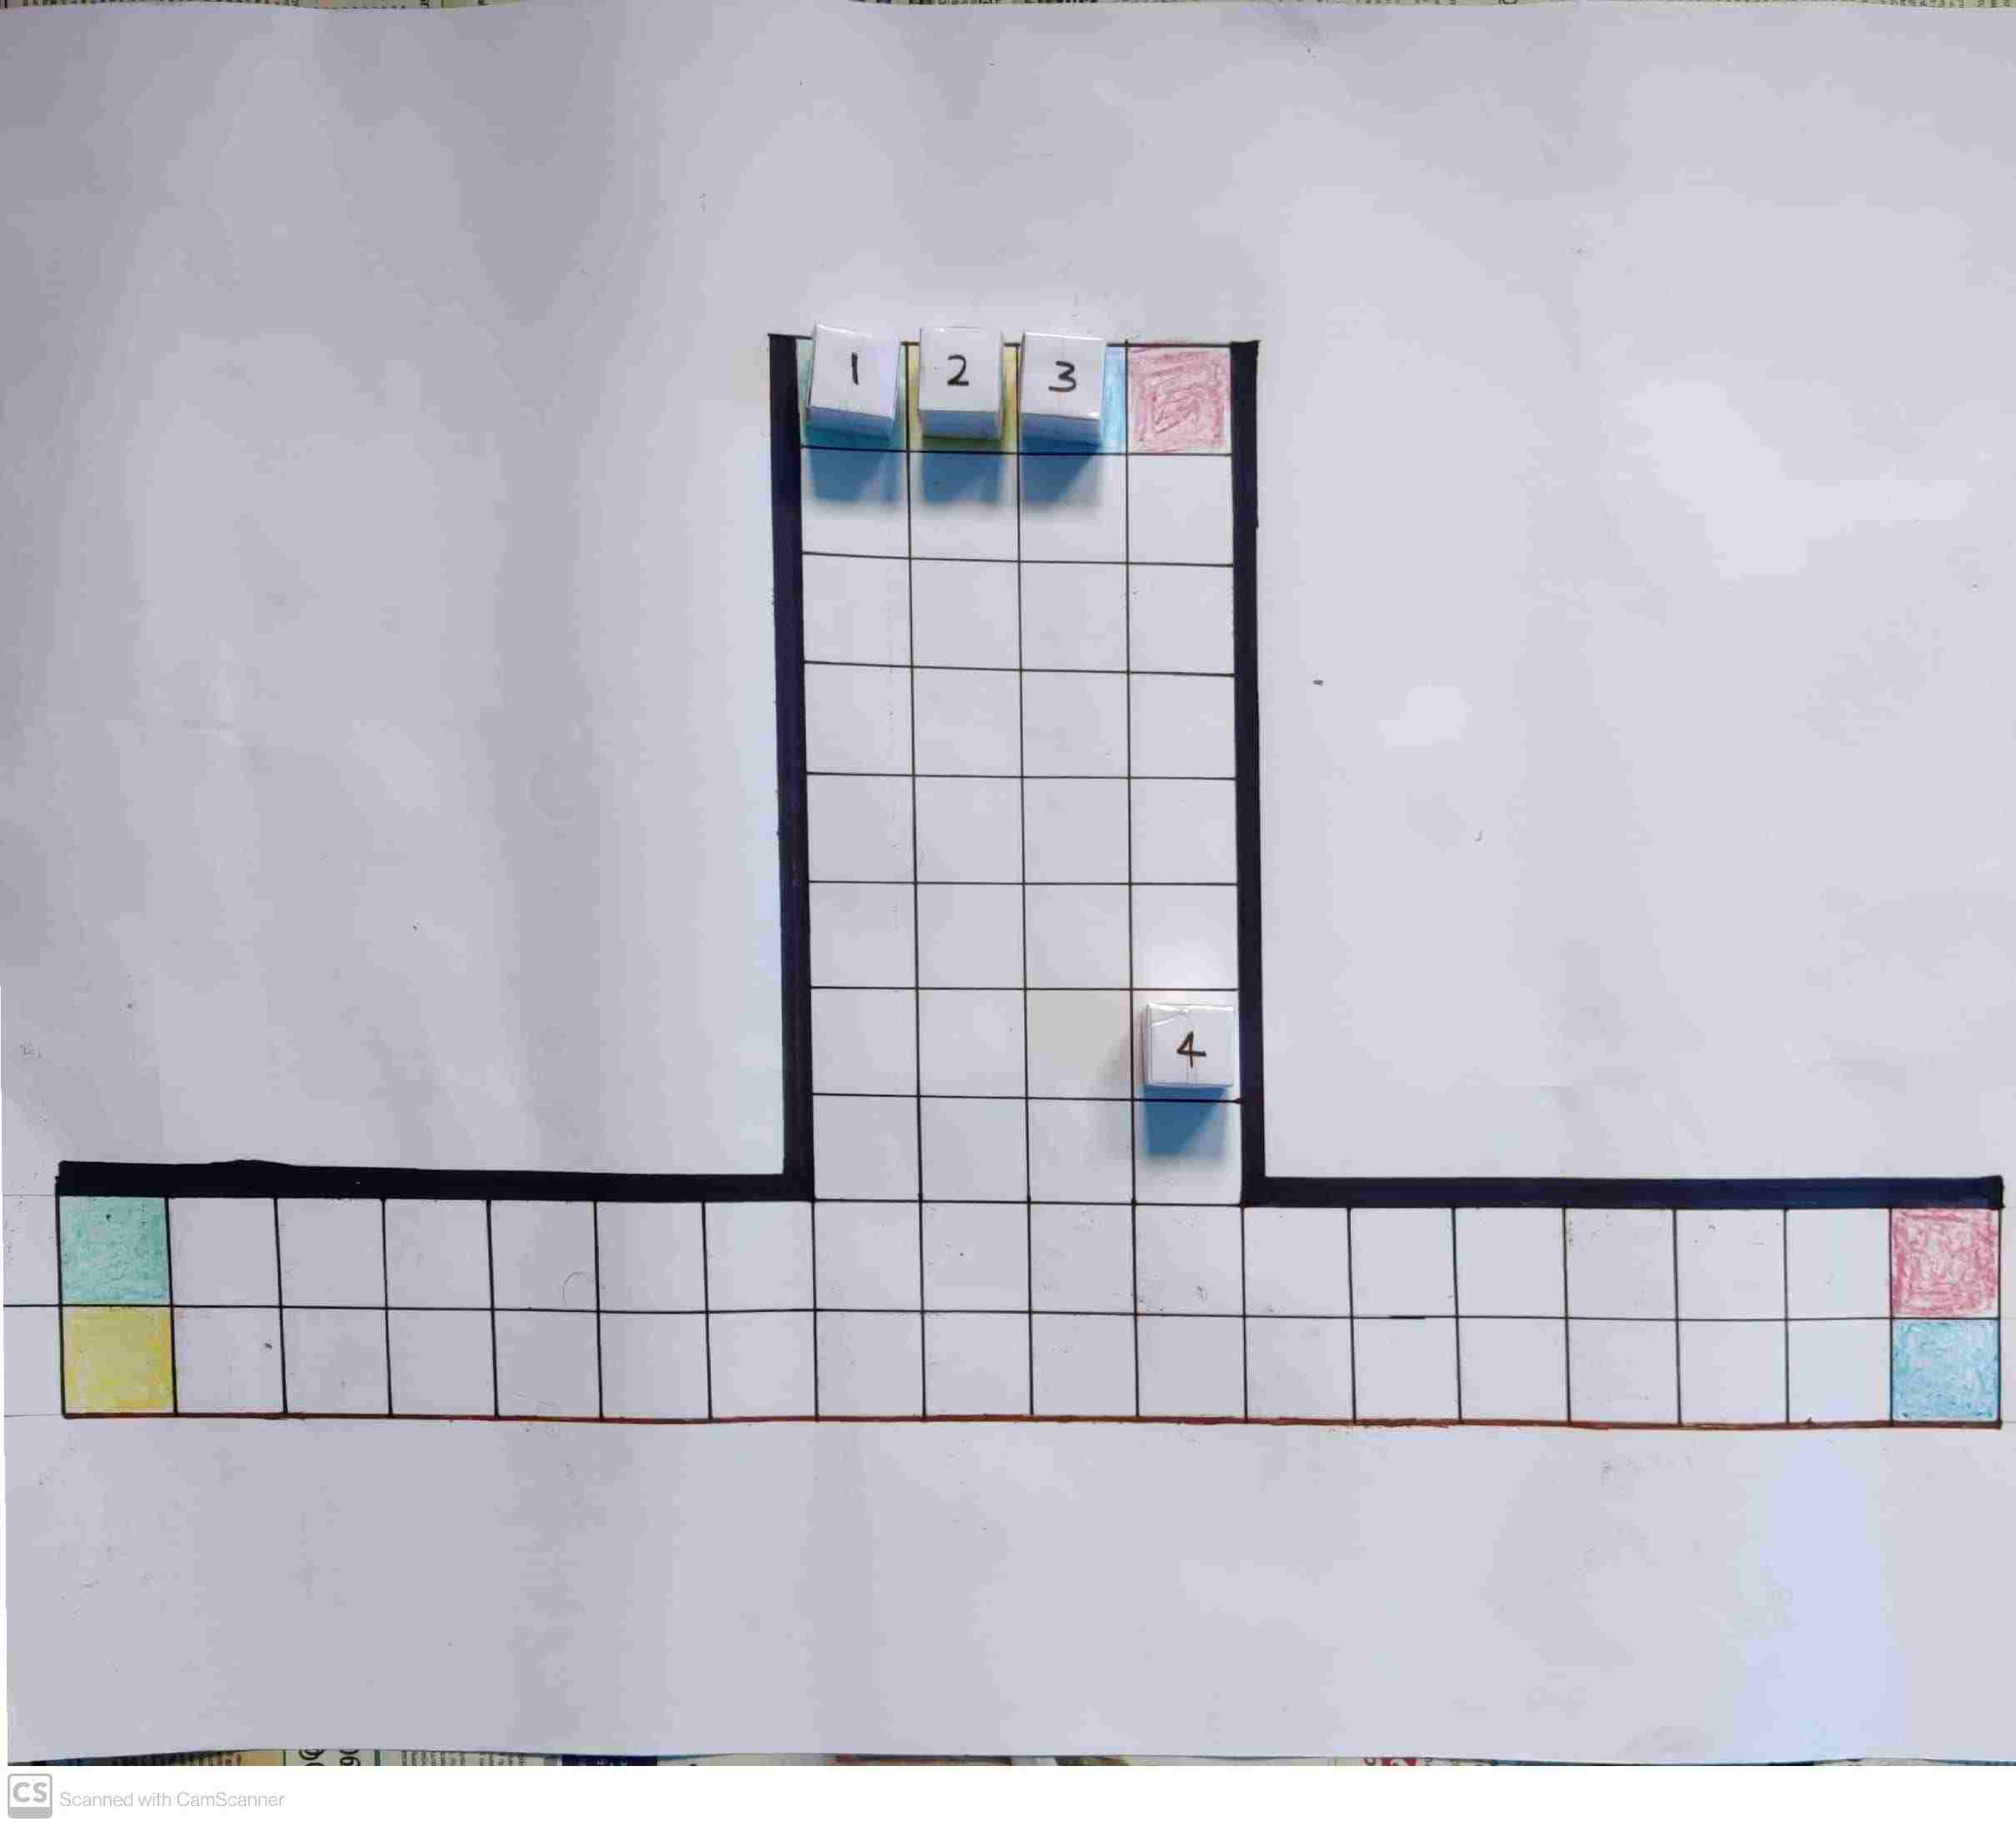arena: (51, 335, 2000, 1424)
bot: (808, 332, 906, 409), (1147, 1008, 1236, 1082), (920, 332, 1001, 413), (1022, 335, 1106, 413)
